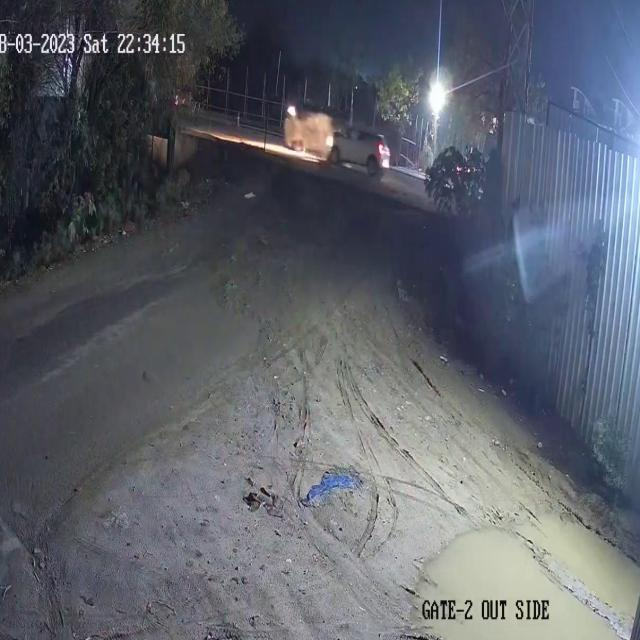accident: (278, 95, 394, 180)
